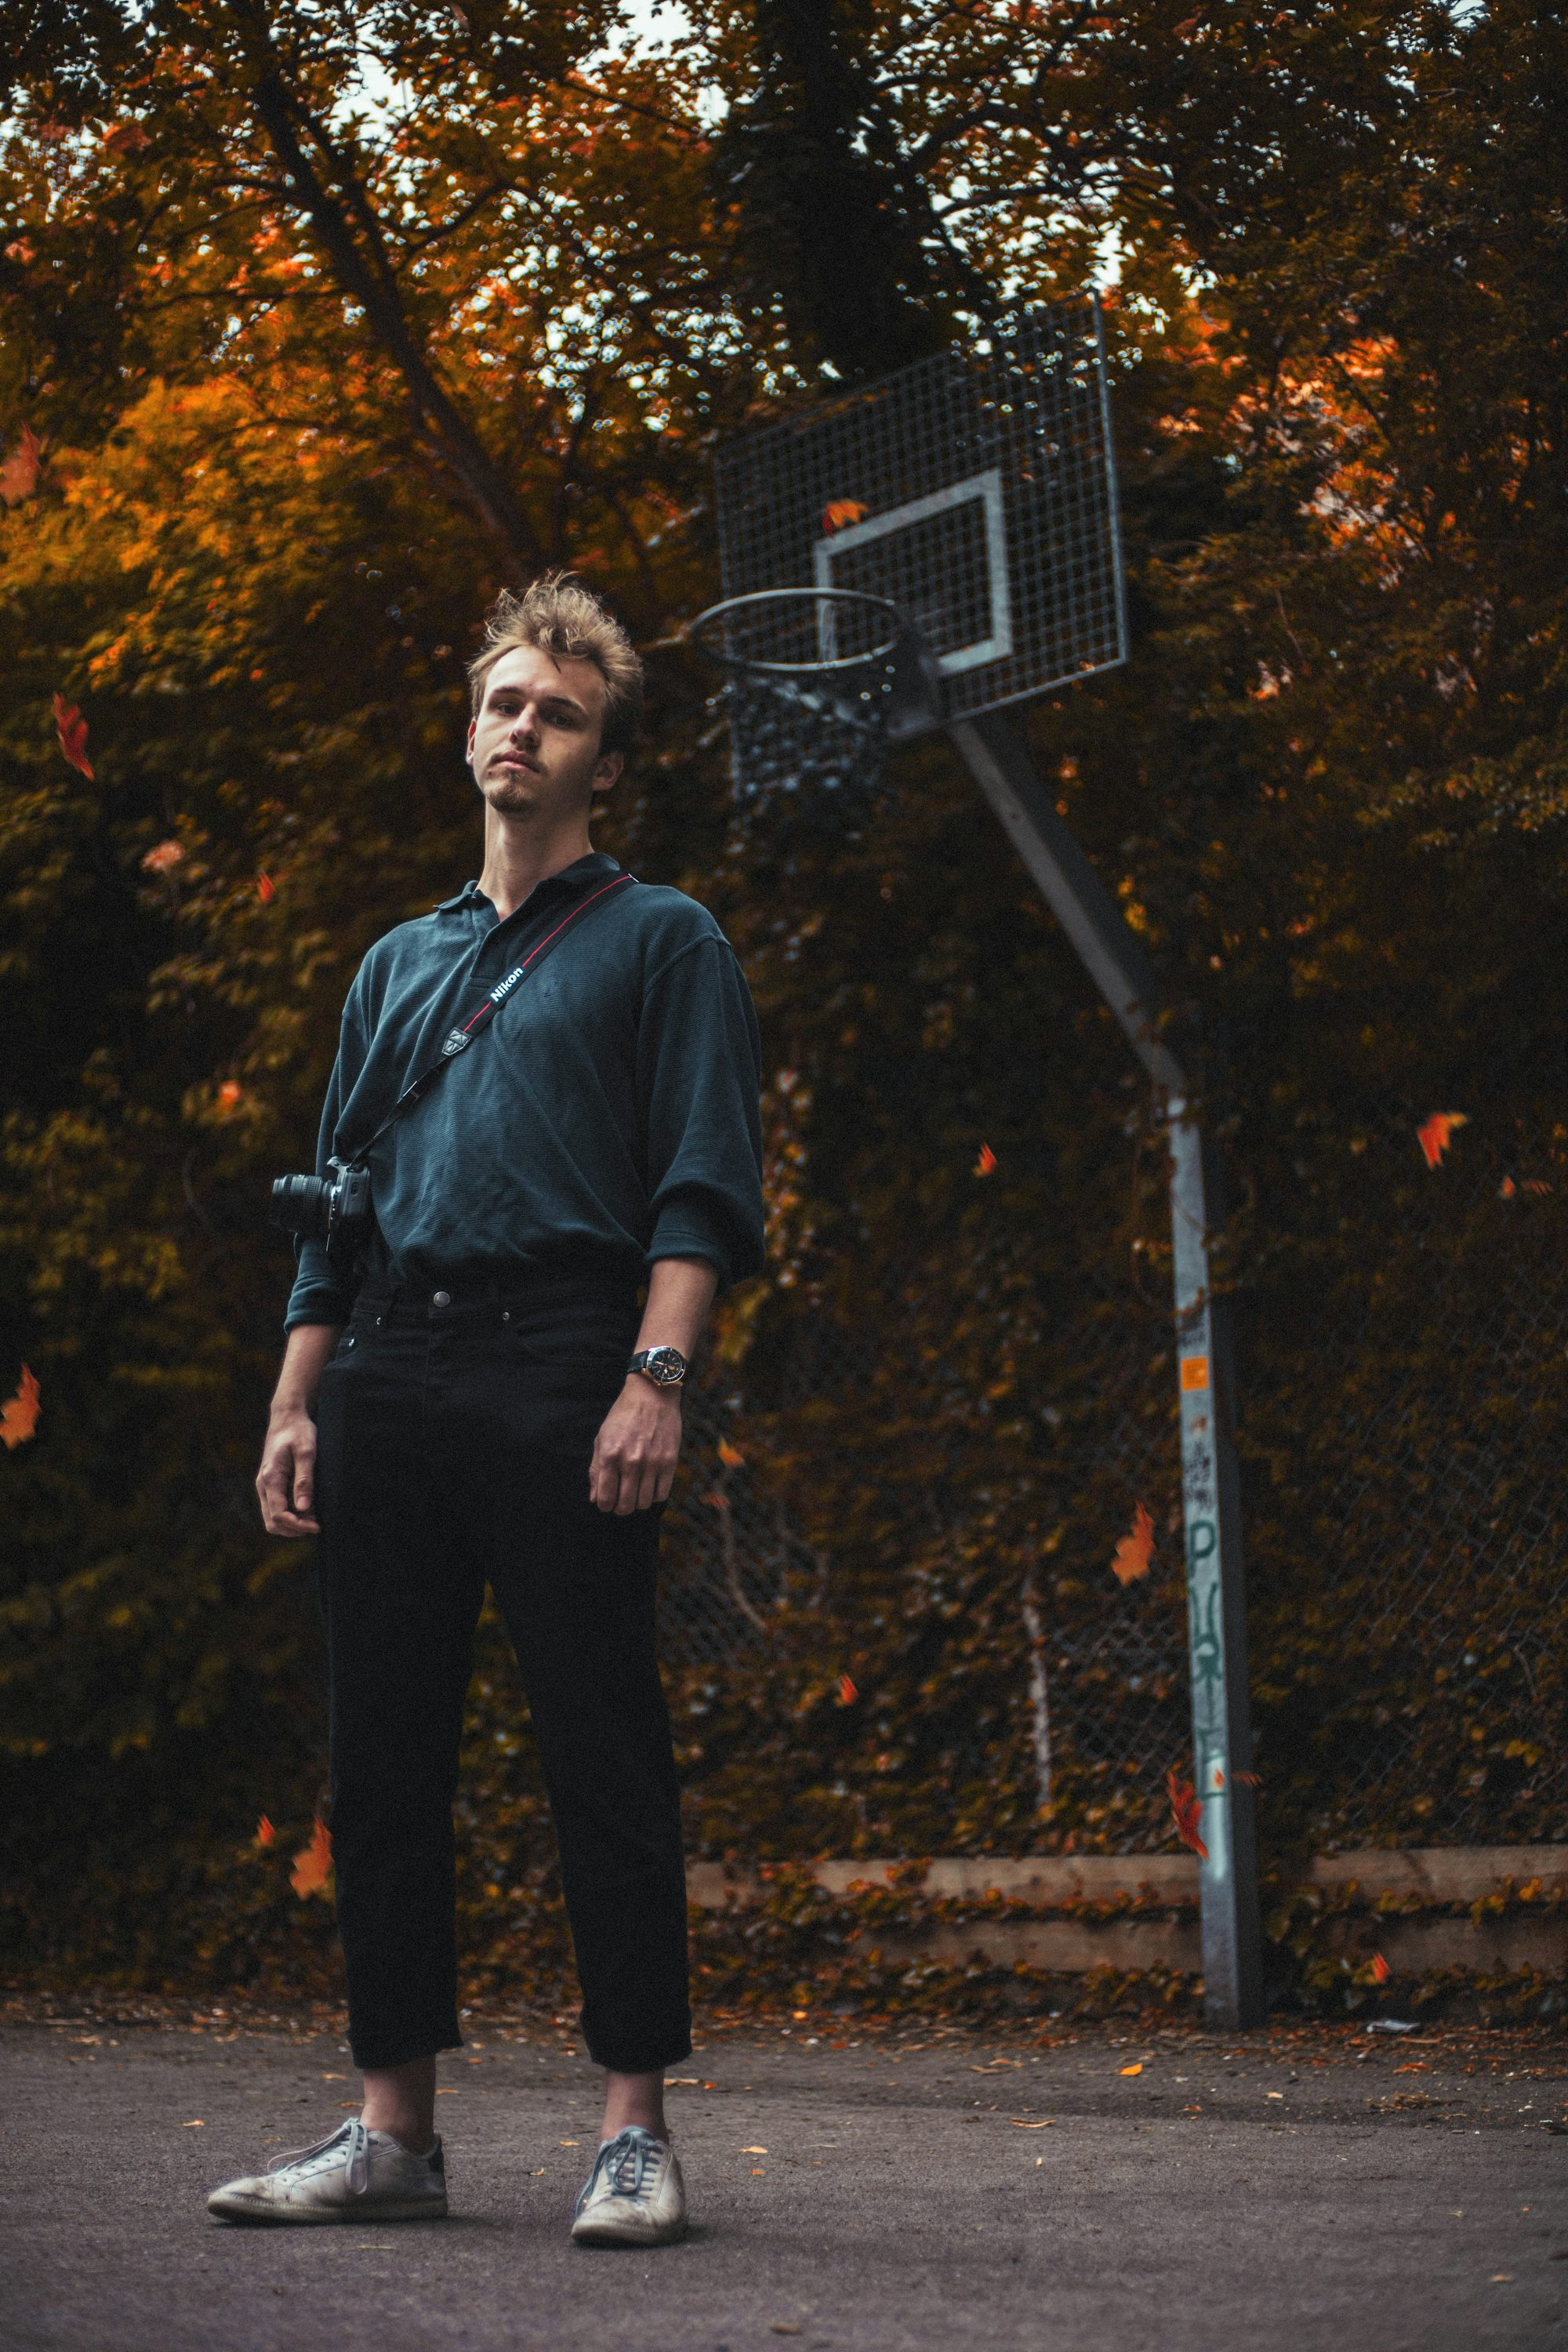person: (172, 536, 775, 2268)
